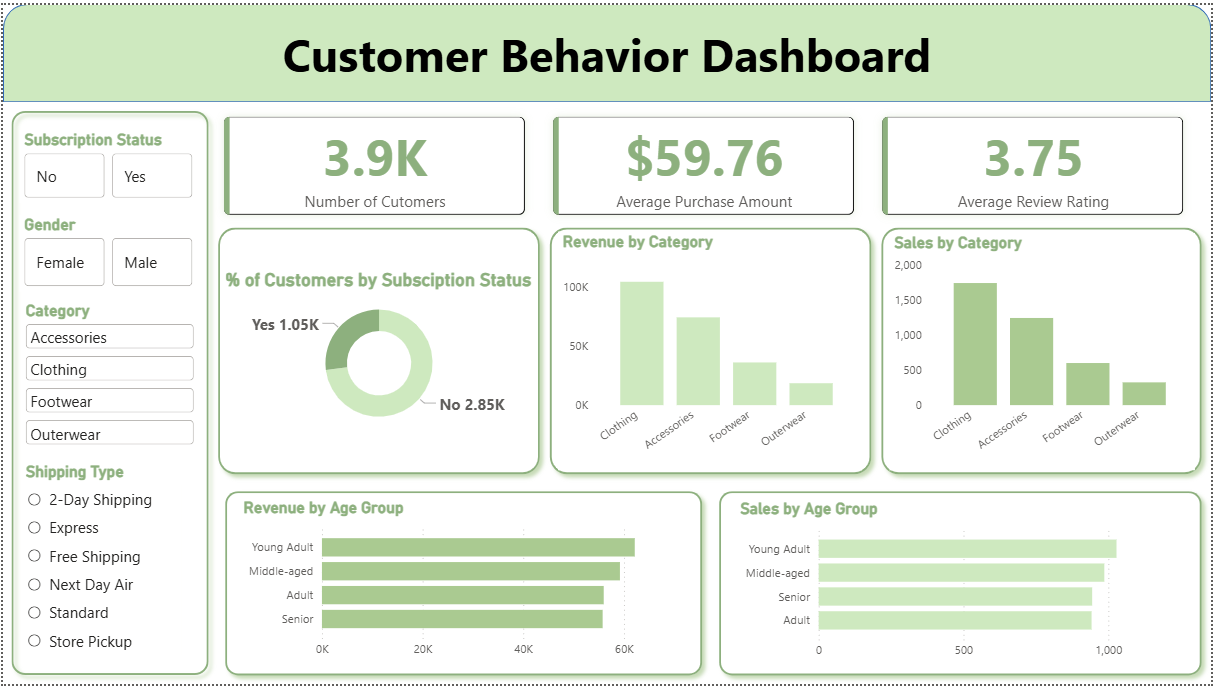

The page's visual inventory and layout, read from the dashboard file:
{"tool":"powerbi","page":{"name":"Page 1","canvas":[1280,720],"ordinal":0},"visuals":[{"type":"cardVisual","fields":{"Data":["customer_behavior customer.Number of Cutomers","customer_behavior customer.Average Purchase Amount","customer_behavior customer.Average Review Rating"]},"box":[205.7,91.4,1074.3,160],"z":0},{"type":"shape","box":[0,0,1280.6,104.1],"z":1000},{"type":"textbox","box":[0,14.5,1280.6,89.6],"z":2000},{"type":"shape","box":[219.1,227.9,358.8,279.4],"z":3000},{"type":"donutChart","title":"% of Customers by Subsciption Status","fields":{"Category":["customer_behavior customer.subscription_status"],"Y":["CountNonNull(customer_behavior customer.customer_id)"]},"box":[230.9,280.9,335.3,177.9],"z":4000},{"type":"shape","box":[570.6,227.9,358.8,279.4],"z":5000},{"type":"shape","box":[922.1,227.9,357.3,279.4],"z":6000},{"type":"clusteredColumnChart","title":"Revenue by Category ","fields":{"Y":["Sum(customer_behavior customer.purchase_amount)"],"Category":["customer_behavior customer.category"]},"box":[588.2,241.2,322.1,252.9],"z":7000},{"type":"clusteredColumnChart","title":"Sales by Category ","fields":{"Y":["CountNonNull(customer_behavior customer.customer_id)"],"Category":["customer_behavior customer.category"]},"box":[939.7,242.6,323.5,251.5],"z":8000},{"type":"shape","box":[0,104.1,226.9,615.7],"z":9000},{"type":"advancedSlicerVisual","title":"Subscription Status","fields":{"Values":["customer_behavior customer.subscription_status"]},"box":[17.1,134.3,188.6,77.1],"z":10000},{"type":"advancedSlicerVisual","title":"Gender","fields":{"Values":["customer_behavior customer.gender"]},"box":[17.1,222.9,188.6,81.4],"z":11000},{"type":"advancedSlicerVisual","title":"Category","fields":{"Values":["customer_behavior customer.category"]},"box":[18.6,314.3,188.6,161.4],"z":12000},{"type":"listSlicer","title":"Shipping Type","fields":{"Values":["customer_behavior customer.shipping_type"]},"box":[18.6,485.7,188.6,215.7],"z":13000},{"type":"shape","box":[226.5,507.4,523.5,213.2],"z":14000},{"type":"clusteredBarChart","title":"Revenue by Age Group","fields":{"Y":["Sum(customer_behavior customer.purchase_amount)"],"Category":["customer_behavior customer.age_group"]},"box":[250,523.5,476.5,177.9],"z":15000},{"type":"shape","box":[750,507.4,529.4,213.2],"z":15001},{"type":"clusteredBarChart","title":"Sales by Age Group","fields":{"Y":["CountNonNull(customer_behavior customer.customer_id)"],"Category":["customer_behavior customer.age_group"]},"box":[776.5,525,476.5,177.9],"z":15002}]}

Visuals, with their boxes in screenshot pixels (x1, y1, x2, y2), scaled from the page's 1280x720 canvas onto the 1216x689 screenshot:
cardVisual - customer_behavior customer.Number of Cutomers x customer_behavior customer.Average Purchase Amount: BBox(195, 87, 1215, 241)
shape: BBox(0, 0, 1215, 100)
textbox: BBox(0, 14, 1215, 100)
shape: BBox(208, 218, 549, 485)
"% of Customers by Subsciption Status" donutChart: BBox(219, 269, 538, 439)
shape: BBox(542, 218, 883, 485)
shape: BBox(876, 218, 1215, 485)
"Revenue by Category " clusteredColumnChart: BBox(559, 231, 865, 473)
"Sales by Category " clusteredColumnChart: BBox(893, 232, 1200, 473)
shape: BBox(0, 100, 216, 688)
"Subscription Status" advancedSlicerVisual: BBox(16, 129, 195, 202)
"Gender" advancedSlicerVisual: BBox(16, 213, 195, 291)
"Category" advancedSlicerVisual: BBox(18, 301, 197, 455)
"Shipping Type" listSlicer: BBox(18, 465, 197, 671)
shape: BBox(215, 486, 712, 688)
"Revenue by Age Group" clusteredBarChart: BBox(238, 501, 690, 671)
shape: BBox(712, 486, 1215, 688)
"Sales by Age Group" clusteredBarChart: BBox(738, 502, 1190, 673)
